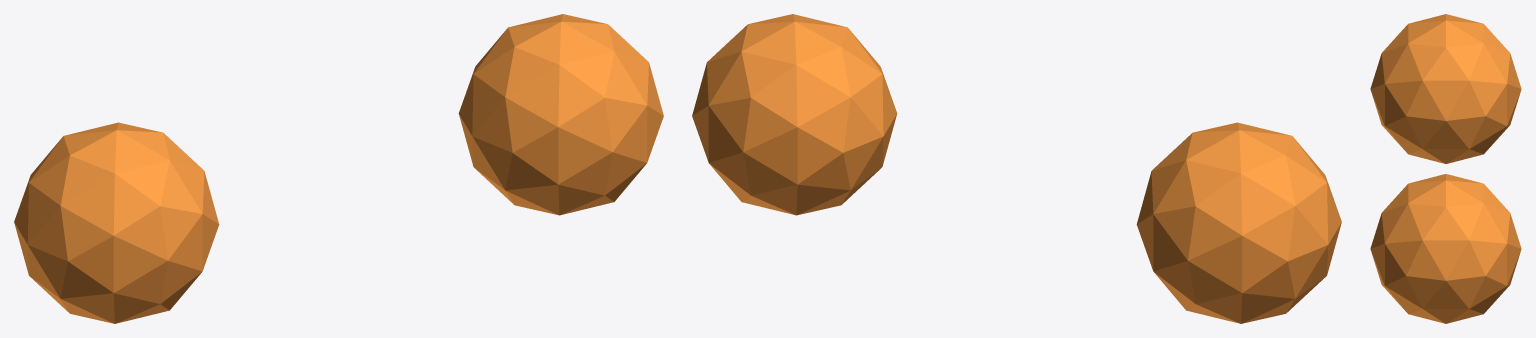
Rendered from SkullEyes.obj.
3 renders of one model, left to right at view 1: azimuth 30°, elevation 25°; view 2: azimuth 150°, elevation 25°; view 3: azimuth 270°, elevation 25°, orthographic. The views are drawn at different scales.
Visible parts, largest first — view 1: SkullEyes; view 2: SkullEyes; view 3: SkullEyes.
Boxes of the visible parts, x1,y1,x2,y2 form: SkullEyes: (14,14,663,323); SkullEyes: (692,14,1341,323); SkullEyes: (1370,14,1521,323).
Bounding box in the file's own units: 1.12 × 0.32 × 0.32.
Materials: 1 (1 with a texture image).
